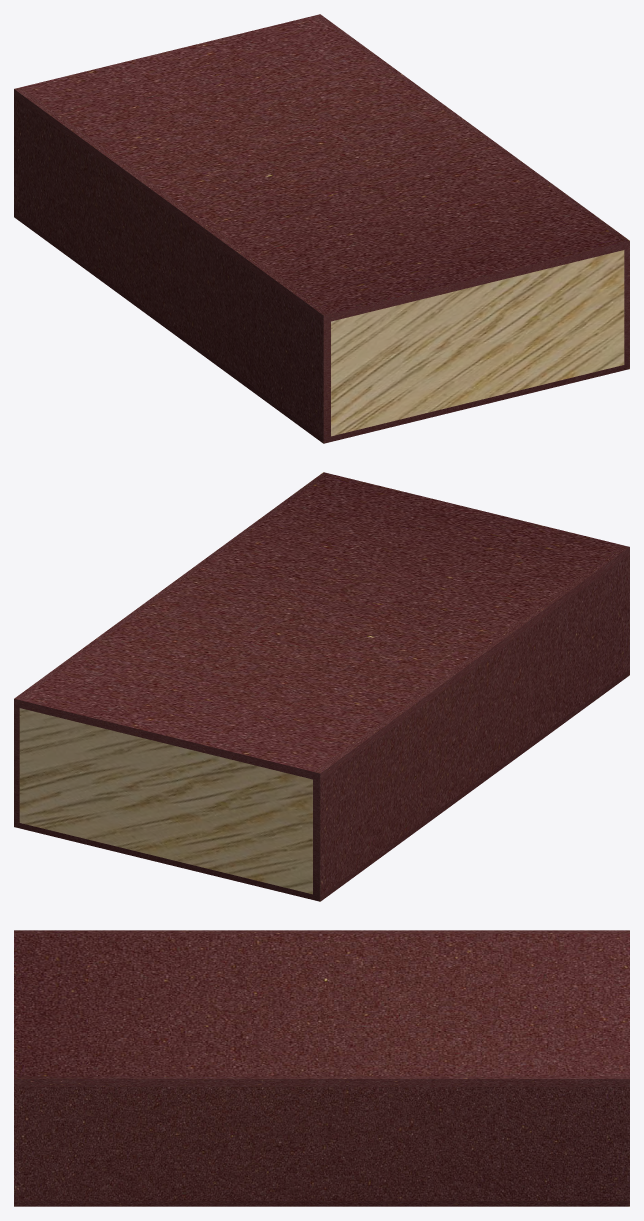
File: Наждачка.fbx
The picture shows the model from 3 angles, top to bottom: view 1: azimuth 30°, elevation 25°; view 2: azimuth 150°, elevation 25°; view 3: azimuth 270°, elevation 25°; orthographic projection.
Parts seen in each view (by area): view 1: Box001; view 2: Box001; view 3: Box001.
Boxes of the visible parts, x1,y1,x2,y2 form: Box001: (14,14,629,443); Box001: (14,472,629,901); Box001: (14,930,629,1206).
Size of the model in its own units: 20 by 8 by 35.
2 materials, 2 textured.
